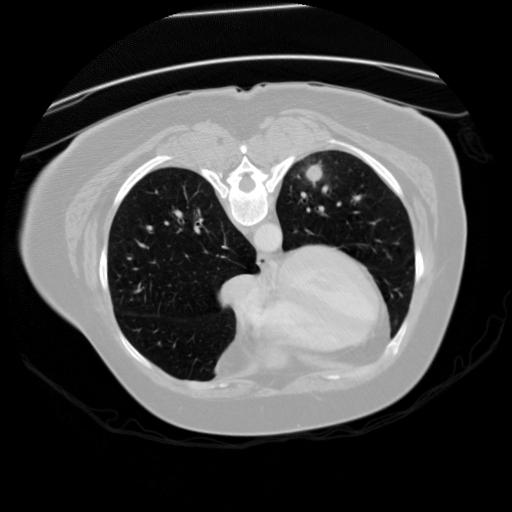nodule: (301, 162, 326, 187)
